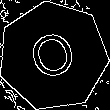O_S: (24, 25, 82, 87)
